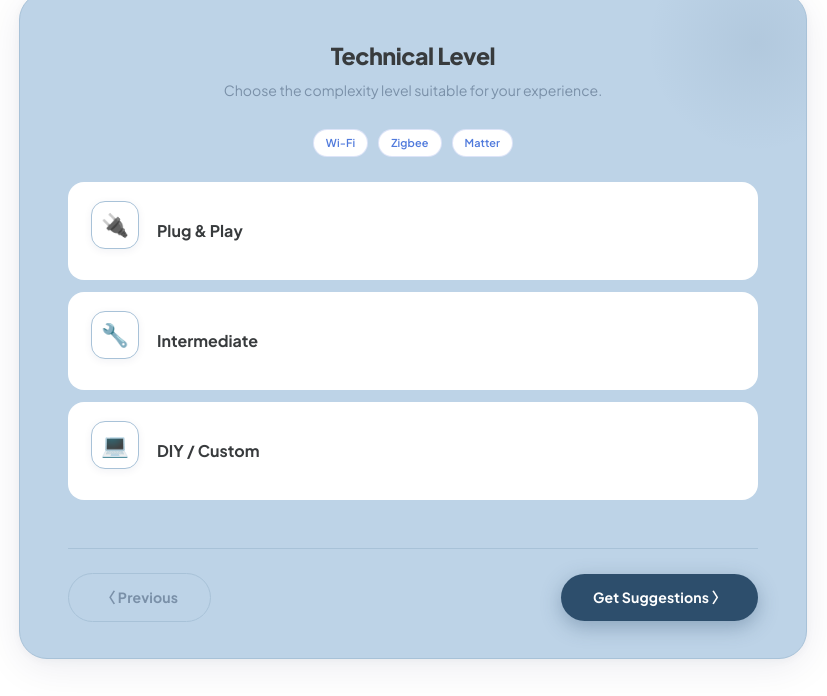
SetupWizard › SuggestedProductsView › fetches and displays algorithm products
(page scrolled)
What coordinates should you click on to do the following:
click the button "Get Suggestions 〉"
I would click on:
 (659, 597)
Its box is [561, 574, 758, 621].
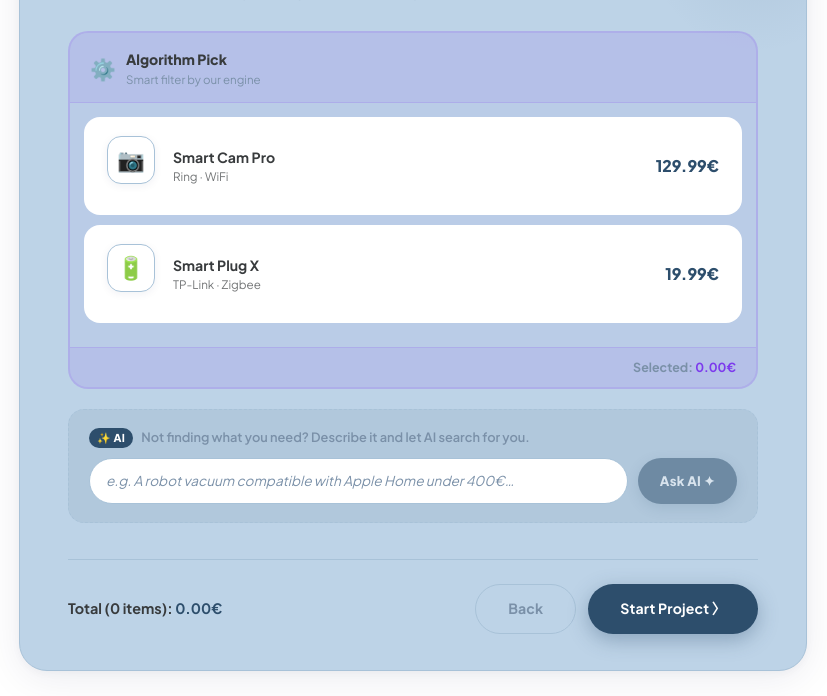
Now the text "Smart Cam Pro" is shown, box [173, 148, 275, 166]
Now the text "Smart Plug X" is shown, box [173, 256, 259, 274]
